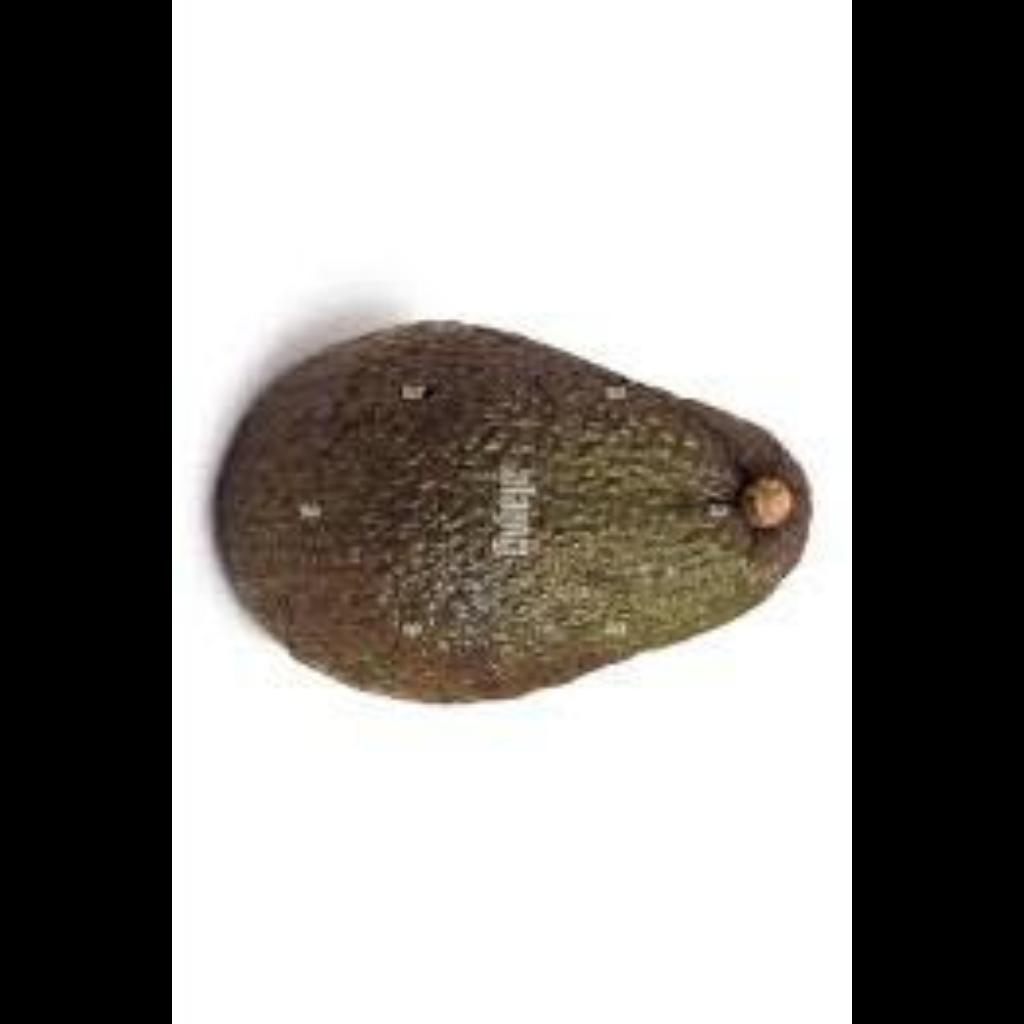Anthracnose: (188, 320, 820, 696)
